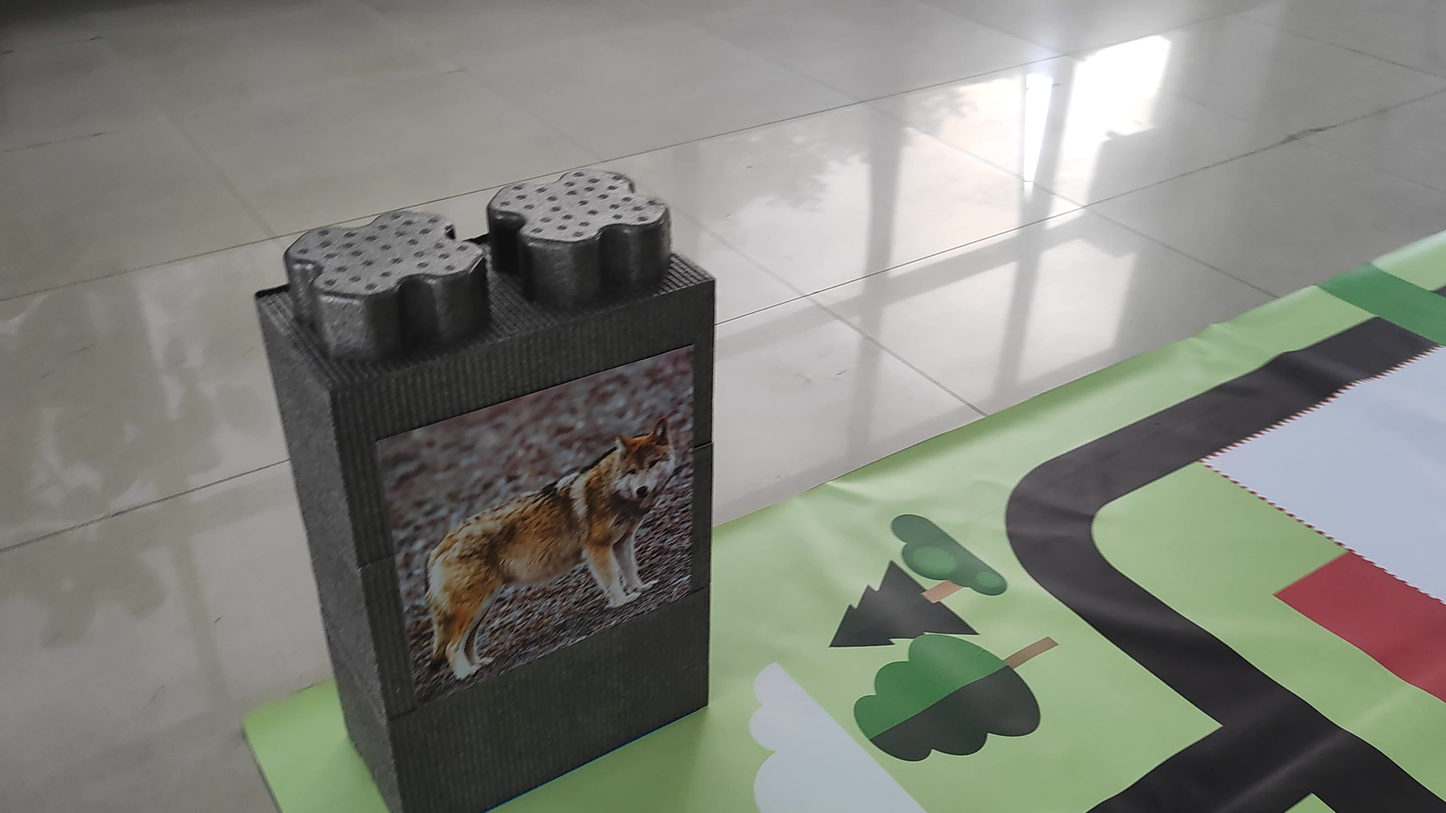wolf: (394, 425, 699, 658)
